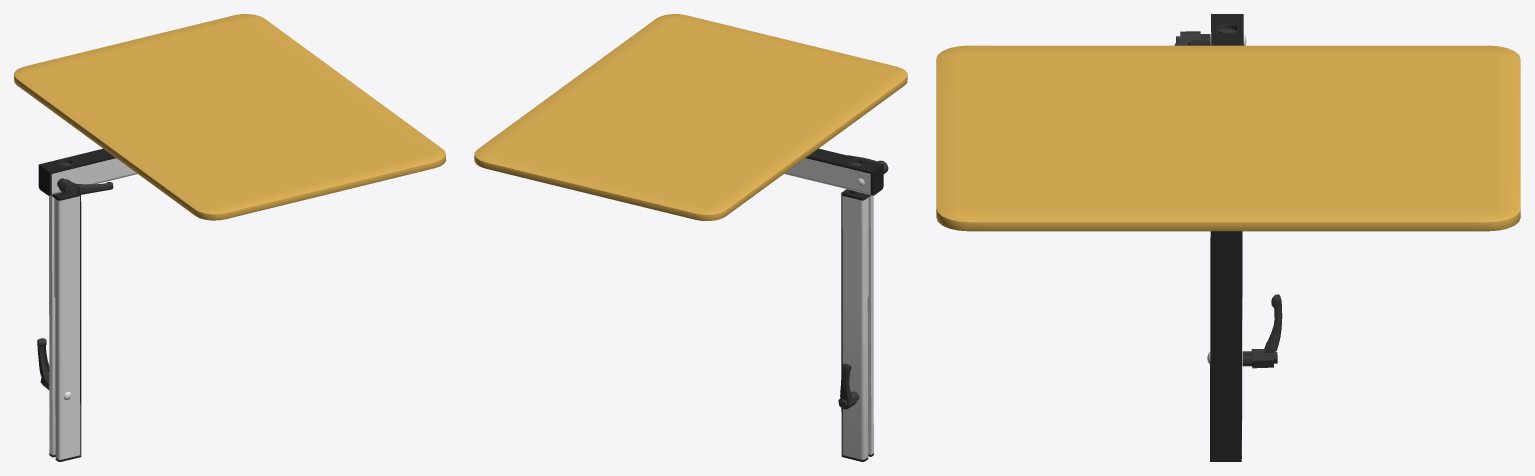
The model's file is swivel-table.glb.
The picture shows the model from 3 angles, left to right: view 1: azimuth 30°, elevation 25°; view 2: azimuth 150°, elevation 25°; view 3: azimuth 270°, elevation 25°; orthographic projection. The views are drawn at different scales.
Visible parts, largest first — view 1: Cube.017; view 2: Cube.017; view 3: Cube.017.
Part boxes in pixels (x1,y1,x2,y2): Cube.017: (14, 14, 445, 461); Cube.017: (474, 14, 907, 461); Cube.017: (936, 14, 1520, 461).
Bounding box in the file's own units: 0.6255 × 0.5793 × 0.7.
